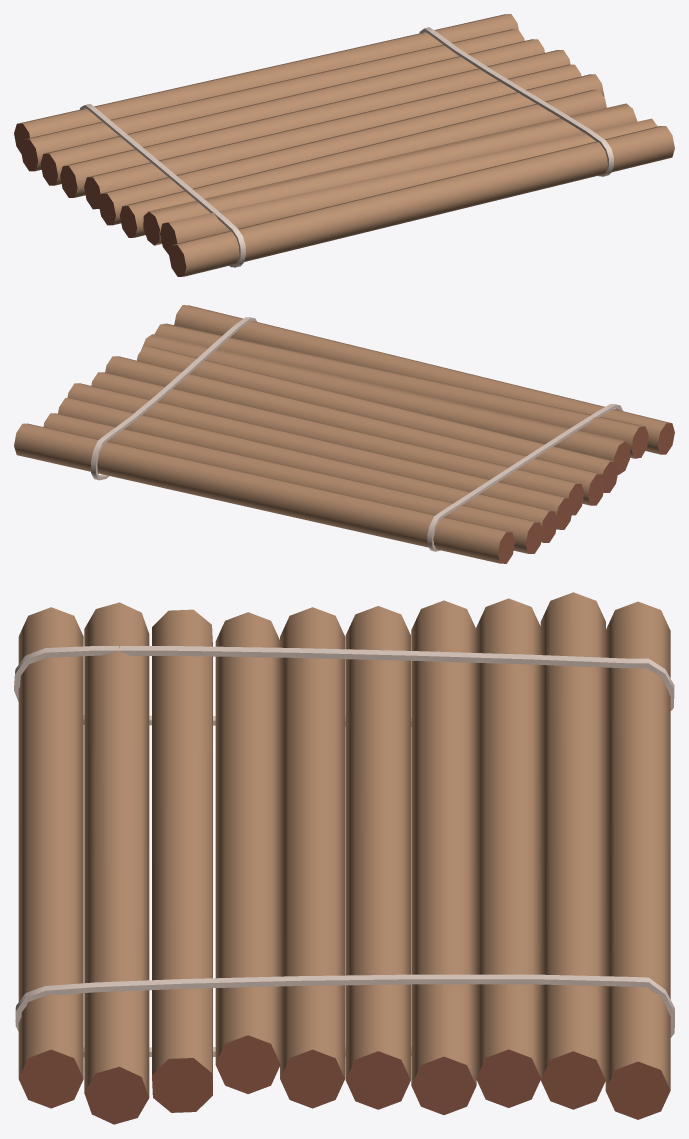
File: KN_Radeau.FBX
The picture shows the model from 3 angles, top to bottom: view 1: azimuth 30°, elevation 25°; view 2: azimuth 150°, elevation 25°; view 3: azimuth 270°, elevation 25°; orthographic projection. The views are drawn at different scales.
Visible parts, largest first — view 1: radeau; view 2: radeau; view 3: radeau.
Boxes of the visible parts, x1,y1,x2,y2 form: radeau: (14,14,674,276); radeau: (14,305,674,563); radeau: (14,592,674,1124).
Bounding box in the file's own units: 116 × 10.5 × 71.41.
